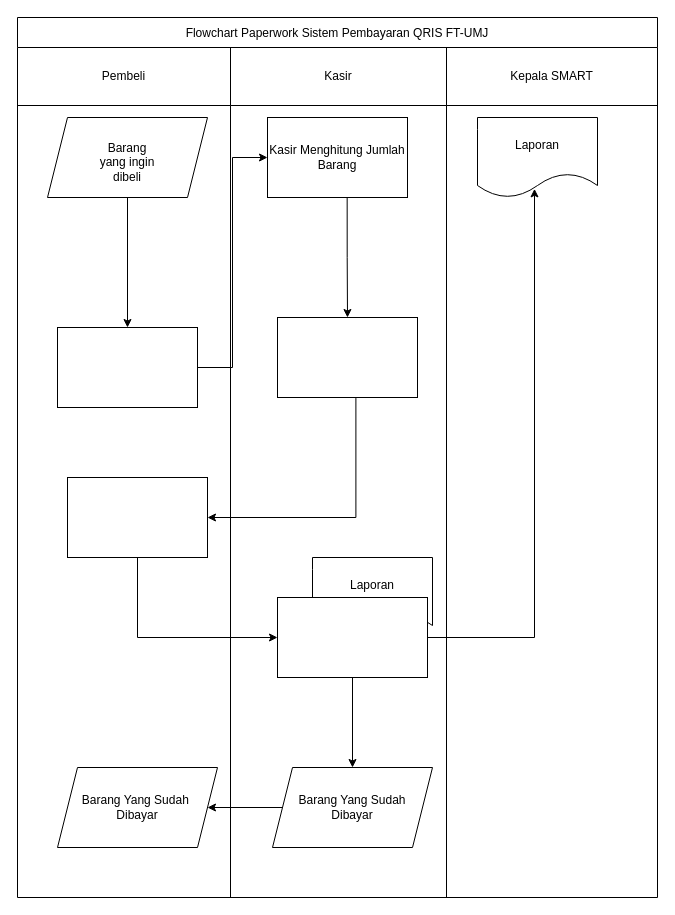
Image size: 675x915. Some labels were removed from this diagram. The shapes that lost their labels are listed below. From the top down, each one's box as (x1, y1, x2, y2) in pixels, then its label:
(56, 326, 198, 408): Penyerahan Barang Ke Kasir
(276, 316, 418, 398): Kasir Memberikan Barcode QRIS
(66, 476, 208, 558): Pembayaran Melalui QRIS
(276, 596, 428, 678): Pengonfirmasian Pembayaran Berhasil
